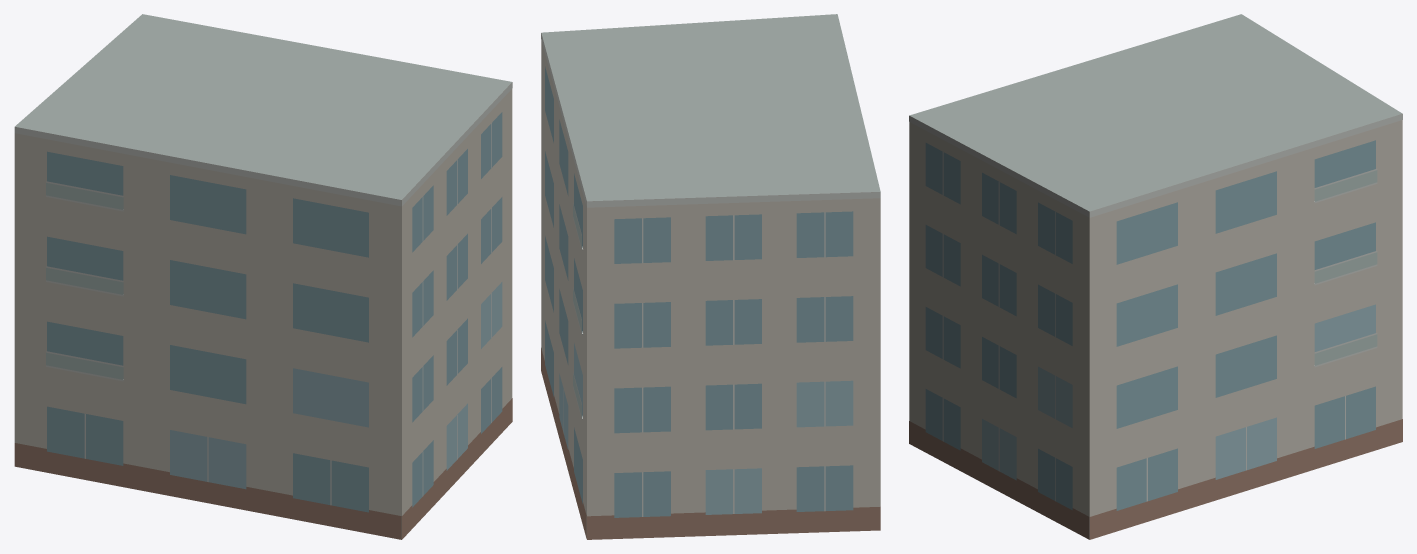
The model's file is survey-upis-33019721.glb.
3 views of the same model, side by side, from view 1: azimuth 30°, elevation 25°; view 2: azimuth 150°, elevation 25°; view 3: azimuth 270°, elevation 25° (orthographic). The views are drawn at different scales.
Visible parts, largest first — view 1: survey-upis-33019721.tmp; view 2: survey-upis-33019721.tmp; view 3: survey-upis-33019721.tmp.
Part boxes in pixels (bbox=[...]): survey-upis-33019721.tmp: bbox=[14, 14, 512, 539]; survey-upis-33019721.tmp: bbox=[541, 14, 880, 539]; survey-upis-33019721.tmp: bbox=[909, 14, 1402, 539].
Size of the model in its own units: 16.6 by 12.85 by 17.52.
